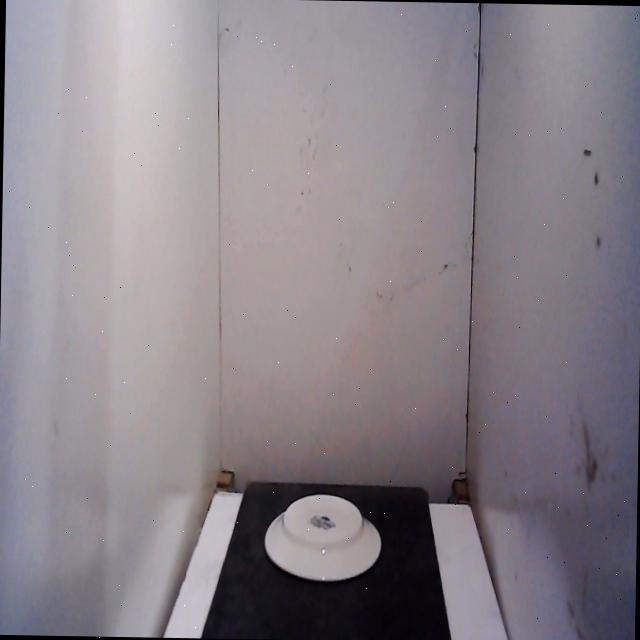vidro: (258, 492, 389, 595)
